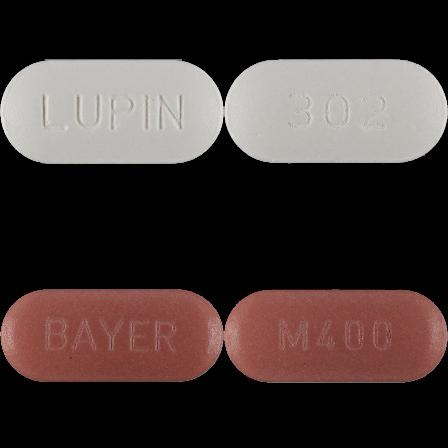43063-584: (0, 0, 224, 224)
